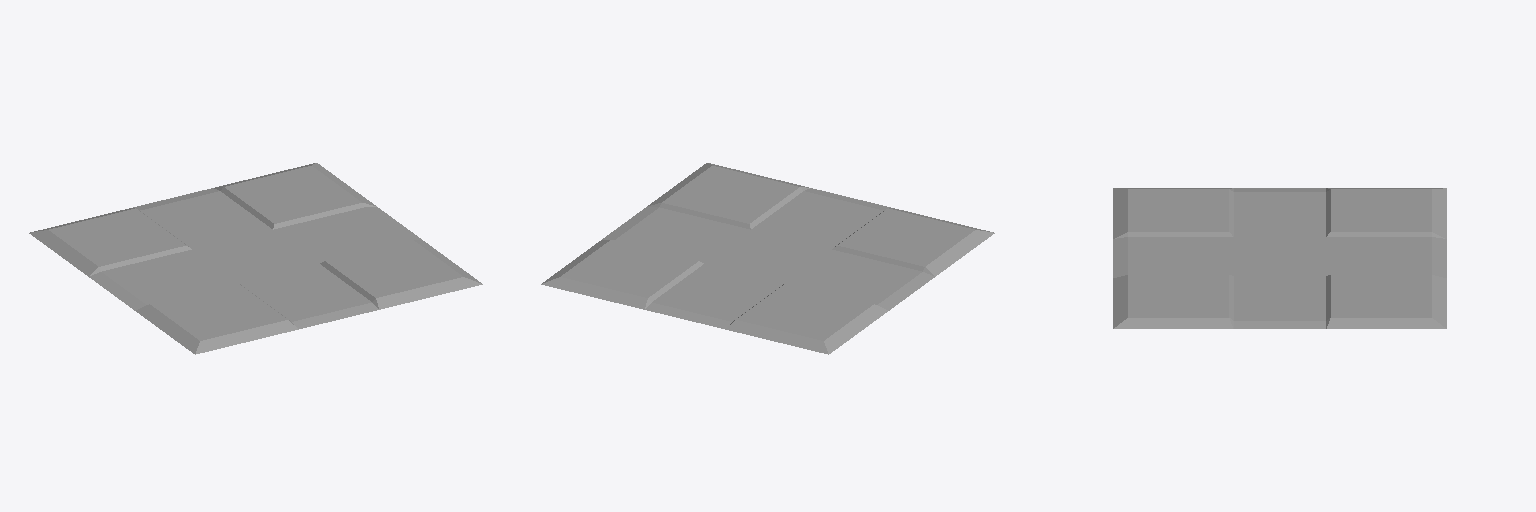
Rendered from panel.obj.
The picture shows the model from 3 angles: view 1: azimuth 30°, elevation 25°; view 2: azimuth 150°, elevation 25°; view 3: azimuth 270°, elevation 25°; orthographic projection.
Visible parts, largest first — view 1: Plane; view 2: Plane; view 3: Plane.
Part boxes in pixels (x1,y1,x2,y2): Plane: (29, 163, 482, 354); Plane: (541, 163, 994, 354); Plane: (1113, 188, 1446, 328).
Size of the model in its own units: 2 by 0.0357 by 2.